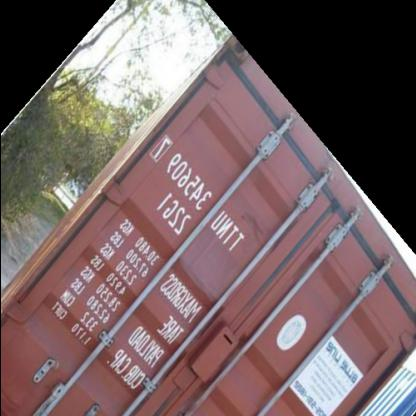Damage: (227, 200, 271, 252), (214, 40, 246, 72)
